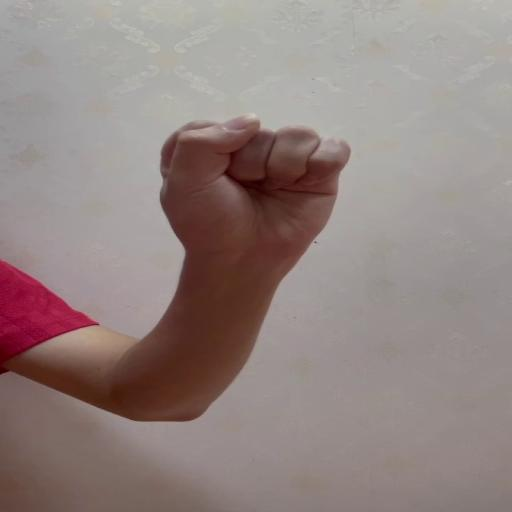fist: (158, 113, 353, 258)
